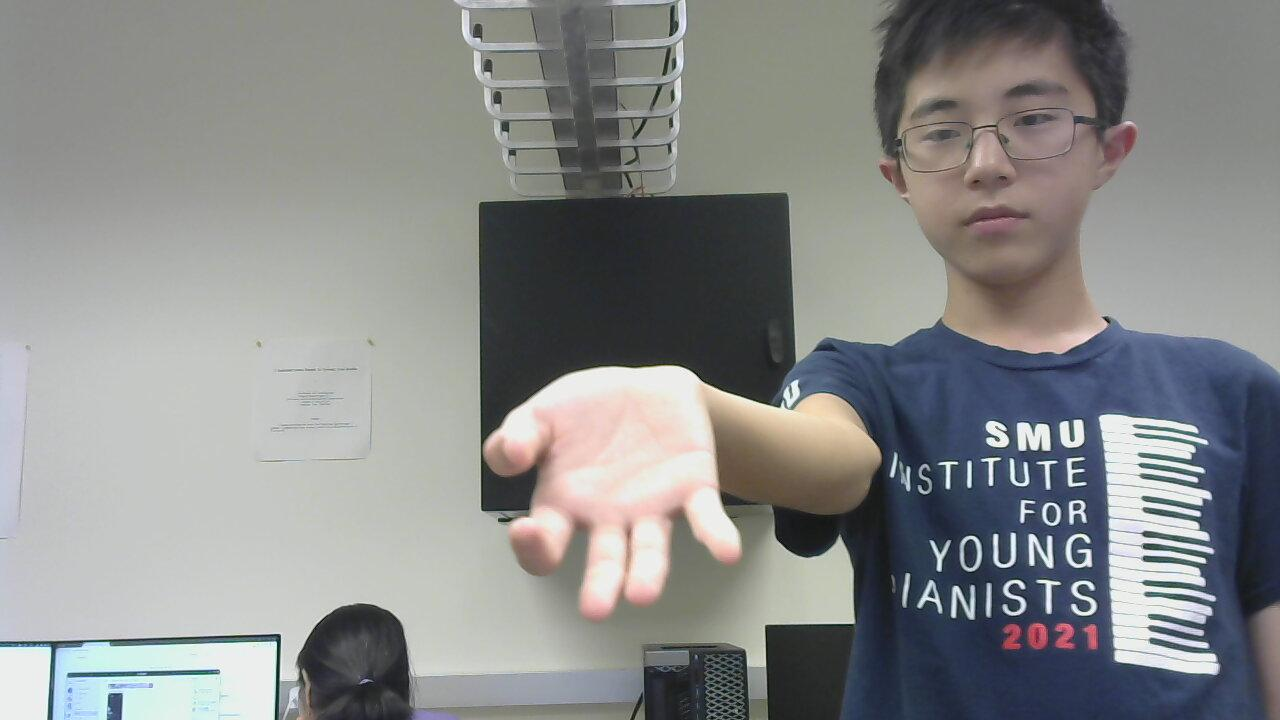hands: (471, 342, 737, 624)
